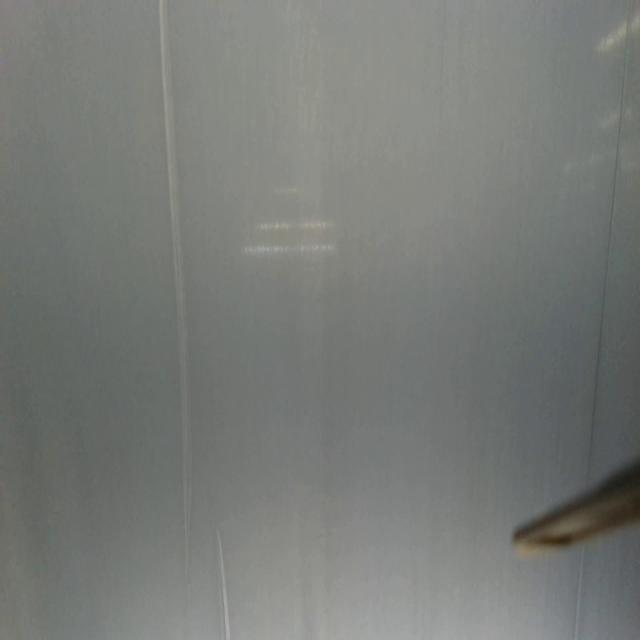crease: (584, 0, 635, 461), (156, 1, 192, 576), (216, 528, 231, 639), (571, 548, 588, 640)
